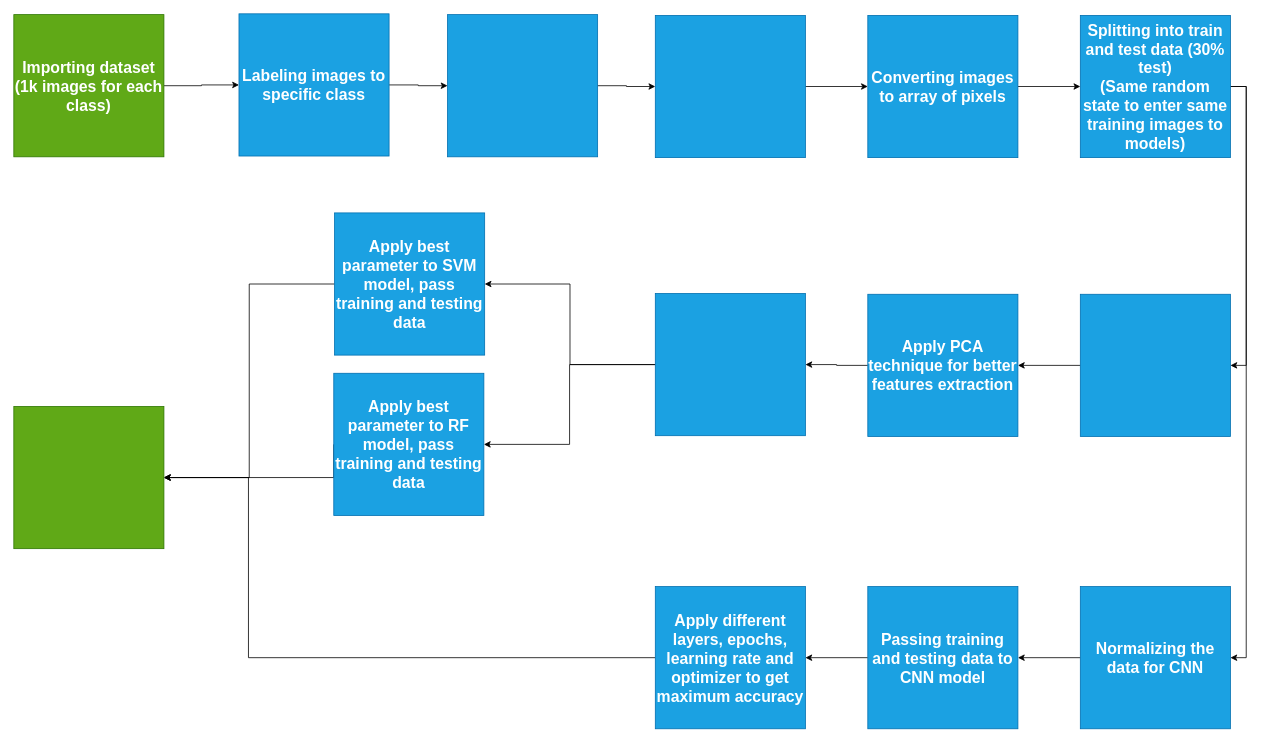
Some shapes in this 1266 by 743 pixel diagram are drawn without their labels. Each missing label, with the centre of its shape:
"Apply Grid Search CV to detect best parameters for SVM, RF" belongs at pixel 730 364.
"Get Accuracy, Classification Report and Confusion matrix" belongs at pixel 88 477.
"Preparing for SVM, RF enhancement" belongs at pixel 1155 364.
"Resizing images to uniform size 256*256" belongs at pixel 522 85.
"Shuffling images randomly (to prevent pattern learning)" belongs at pixel 730 86.
